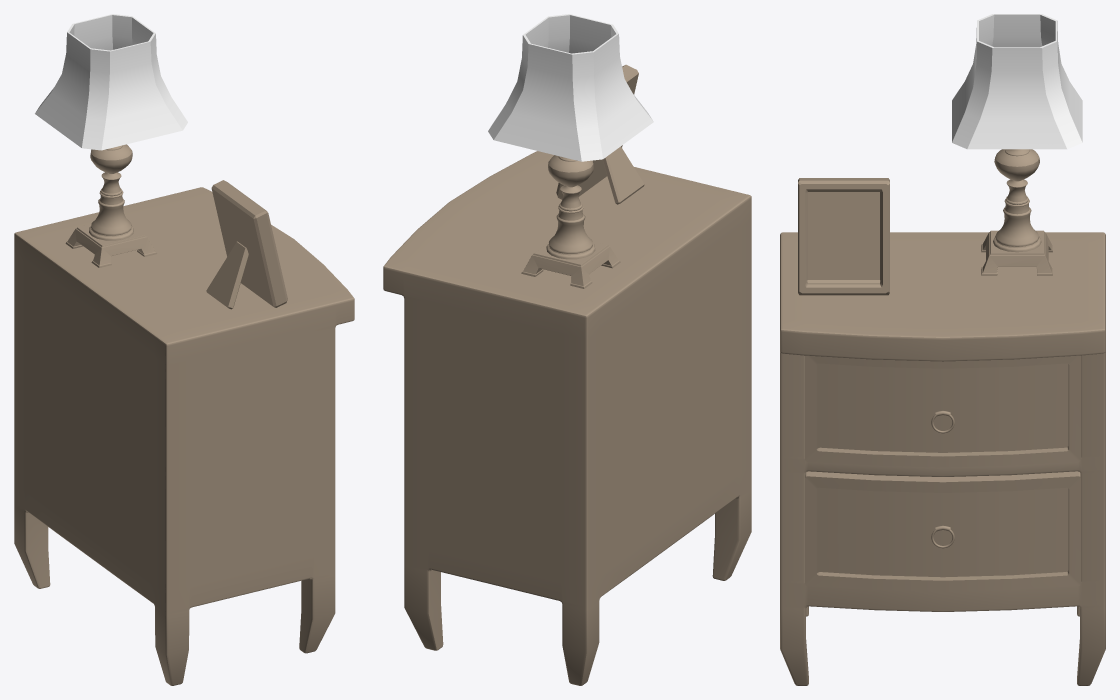
The model's file is sm_drawer.fbx.
3 views of the same model, side by side, from view 1: azimuth 30°, elevation 25°; view 2: azimuth 150°, elevation 25°; view 3: azimuth 270°, elevation 25° (orthographic). The views are drawn at different scales.
Visible parts, largest first — view 1: polySurface89, polySurface279, polySurface358, polySurface278, polySurface359, polySurface266, polySurface272; view 2: polySurface89, polySurface279, polySurface278, polySurface266, polySurface359, polySurface272, polySurface358; view 3: polySurface89, polySurface90, polySurface350, polySurface279, polySurface358, polySurface278, polySurface266, polySurface272.
Boxes of the visible parts, box(x1,y1,x2,y2) form: polySurface89: box(14, 187, 354, 685); polySurface279: box(35, 14, 187, 150); polySurface358: box(211, 180, 287, 307); polySurface278: box(65, 224, 157, 267); polySurface359: box(206, 241, 248, 309); polySurface266: box(89, 199, 133, 240); polySurface272: box(90, 144, 132, 173); polySurface89: box(383, 151, 751, 685); polySurface279: box(488, 14, 653, 161); polySurface278: box(521, 241, 620, 288); polySurface266: box(546, 214, 595, 259); polySurface359: box(602, 146, 644, 204); polySurface272: box(548, 155, 593, 187); polySurface358: box(556, 64, 638, 199); polySurface89: box(780, 232, 1105, 685); polySurface90: box(805, 471, 1080, 591); polySurface350: box(805, 355, 1080, 467); polySurface279: box(952, 14, 1082, 149); polySurface358: box(798, 178, 889, 295); polySurface278: box(981, 230, 1052, 275); polySurface266: box(993, 207, 1041, 252); polySurface272: box(994, 149, 1039, 181).
Bounding box in the file's own units: 95.26 × 252 × 123.
